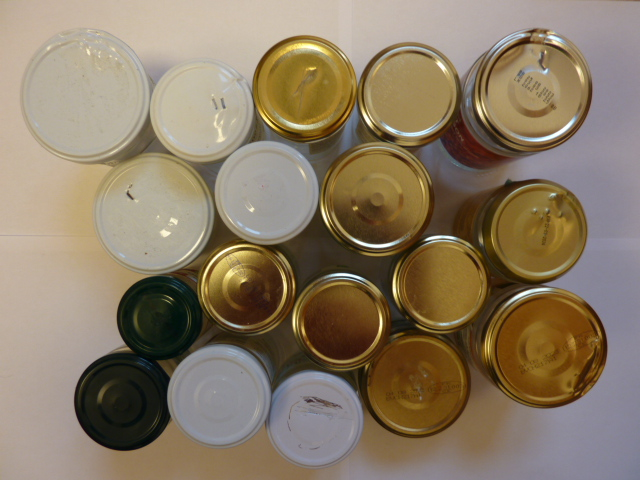damaged: (17, 28, 151, 164), (473, 30, 593, 151), (93, 154, 214, 273), (490, 289, 609, 407), (250, 33, 355, 141), (148, 58, 255, 160), (489, 180, 590, 281), (265, 373, 362, 468)
intact: (322, 143, 432, 254), (216, 140, 319, 245), (358, 42, 461, 145), (70, 352, 171, 450), (395, 237, 487, 330), (202, 247, 293, 333), (117, 276, 200, 360)
